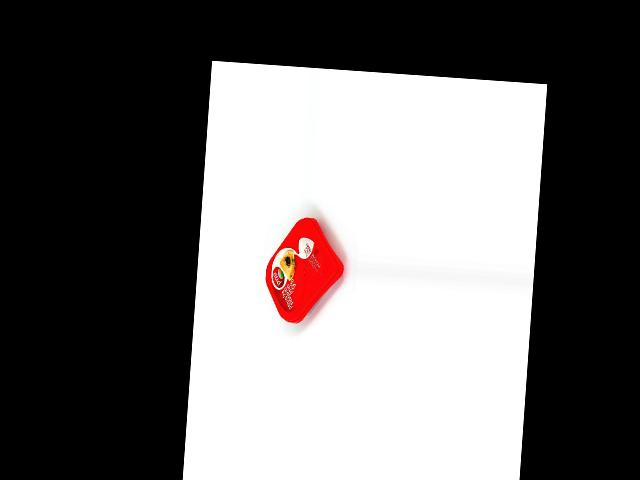cheese: (262, 214, 347, 326)
